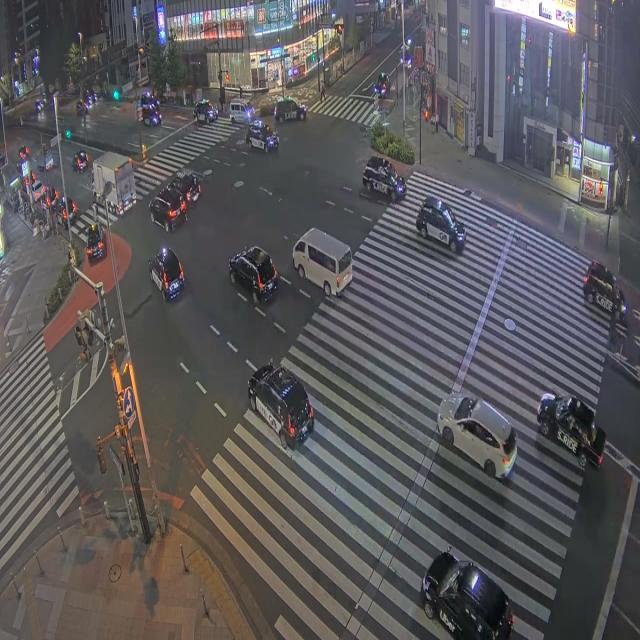car: (421, 547, 513, 639), (437, 395, 517, 478), (248, 363, 314, 448), (537, 393, 606, 467), (416, 196, 466, 253), (229, 247, 278, 303), (583, 261, 626, 324), (363, 156, 406, 201), (149, 248, 185, 300), (149, 189, 186, 231), (246, 120, 278, 152), (169, 173, 200, 205), (274, 97, 306, 121), (86, 224, 106, 262), (193, 99, 218, 123), (56, 196, 76, 225), (399, 38, 413, 69), (143, 104, 161, 127), (374, 73, 389, 99), (72, 151, 88, 173), (140, 93, 159, 108), (32, 181, 46, 201), (47, 186, 59, 207), (83, 89, 97, 106), (76, 100, 88, 115), (19, 146, 29, 160), (35, 99, 44, 112)
truck: (93, 152, 136, 215)
van: (293, 228, 352, 296), (229, 99, 254, 123)
